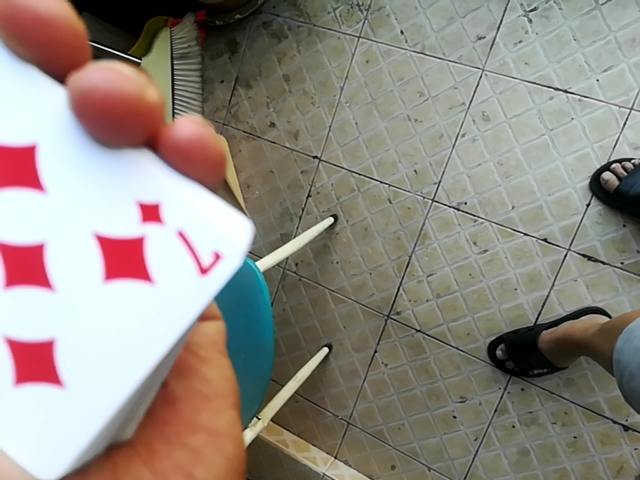fk 7: (0, 12, 239, 480)
